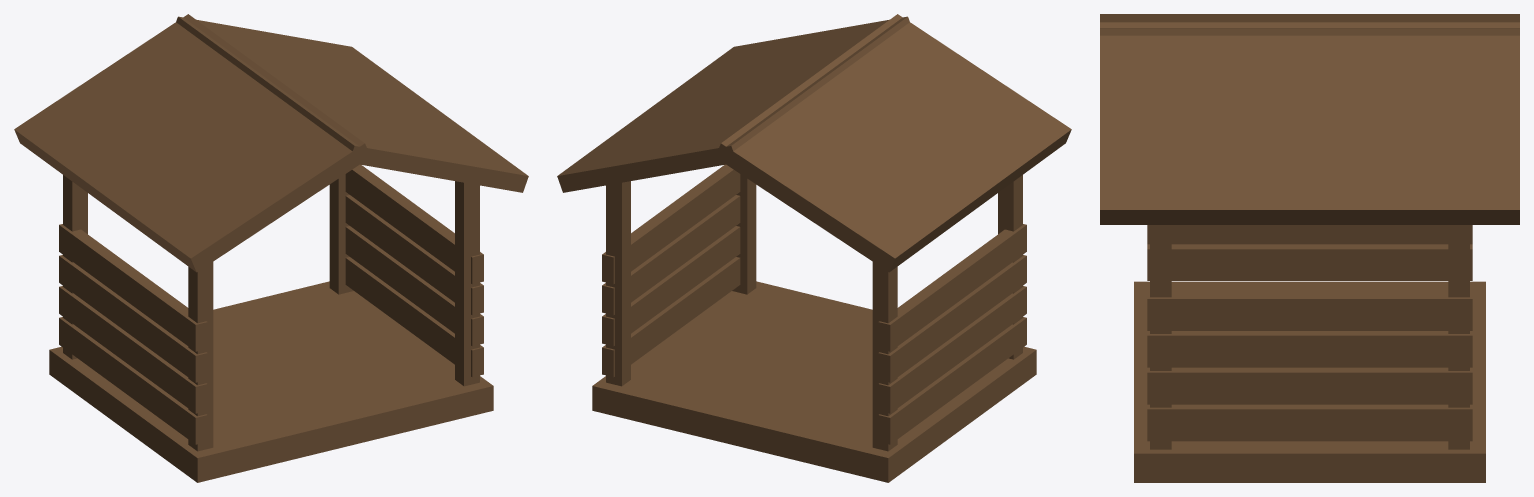
Rendered from cabana.glb.
The picture shows the model from 3 angles, left to right: view 1: azimuth 30°, elevation 25°; view 2: azimuth 150°, elevation 25°; view 3: azimuth 270°, elevation 25°; orthographic projection. The views are drawn at different scales.
Parts seen in each view (by area): view 1: SM_cabana; view 2: SM_cabana; view 3: SM_cabana.
Boxes of the visible parts, <box> form: SM_cabana: <box>14,14,528,482</box>; SM_cabana: <box>557,14,1071,482</box>; SM_cabana: <box>1100,14,1519,482</box>.
Bounding box in the file's own units: 3.42 × 3.03 × 3.1.
